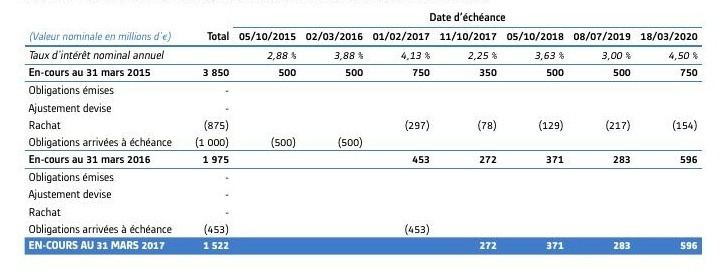table: (0, 0, 723, 278)
